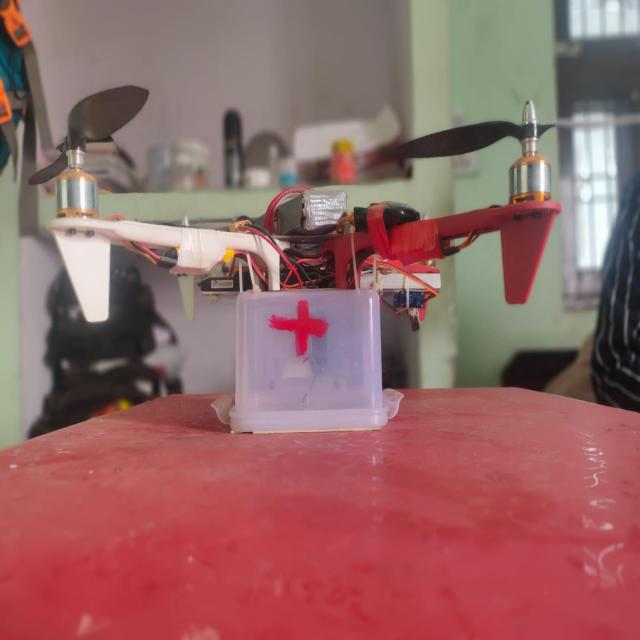Drone THREAT: (38, 118, 628, 438)
